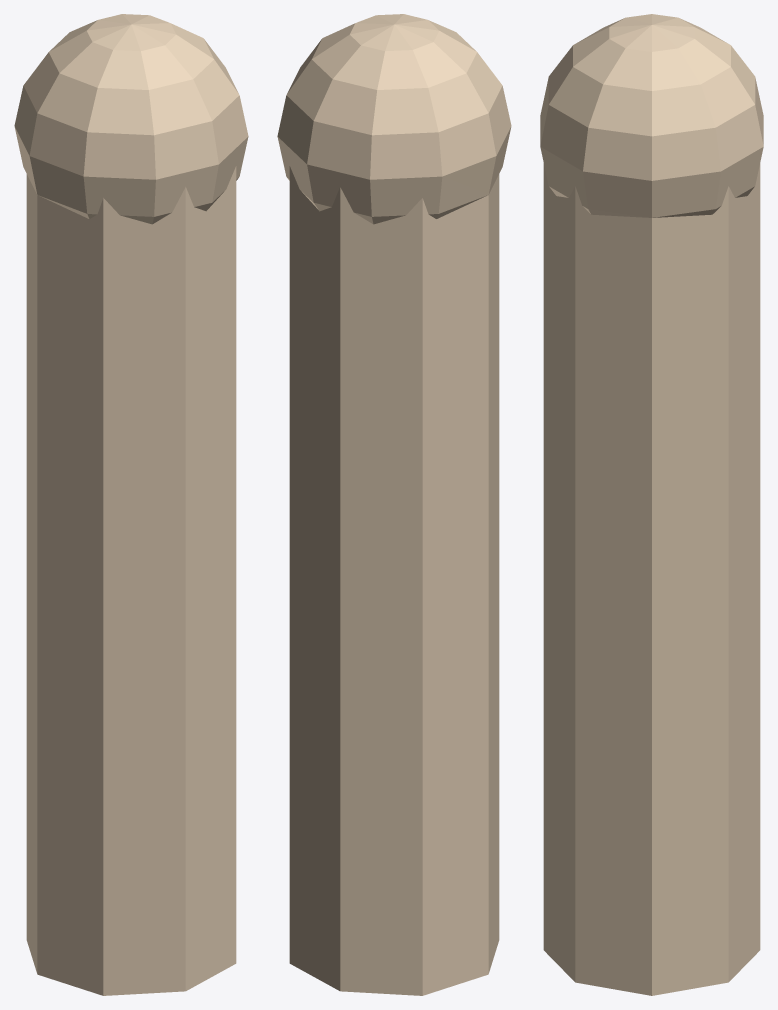
File: bollard.obj
3 views of the same model, side by side, from view 1: azimuth 30°, elevation 25°; view 2: azimuth 150°, elevation 25°; view 3: azimuth 270°, elevation 25° (orthographic).
Visible parts, largest first — view 1: bollard; view 2: bollard; view 3: bollard.
Boxes of the visible parts, x1=… form: bollard: x1=14, y1=14, x2=248, y2=995; bollard: x1=277, y1=14, x2=511, y2=995; bollard: x1=540, y1=14, x2=763, y2=995.
Bounding box in the file's own units: 0.26 × 1.13 × 0.2473.
